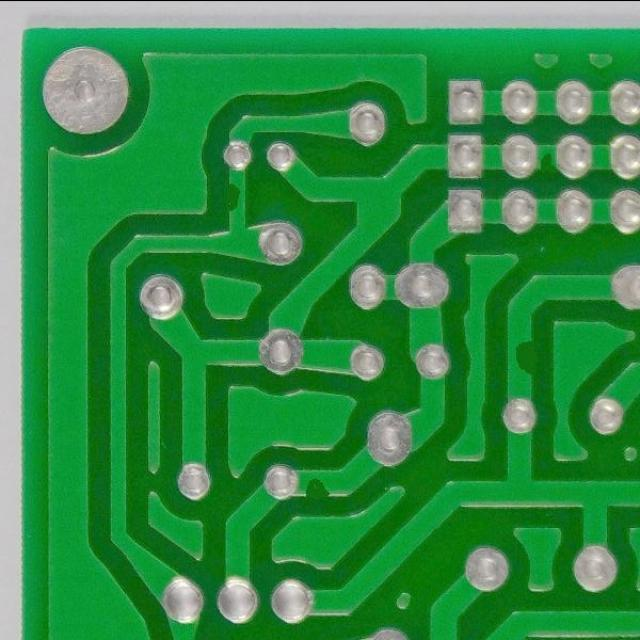MouseBite: (501, 331, 544, 385), (298, 472, 337, 503), (223, 177, 250, 216), (538, 148, 557, 172)
